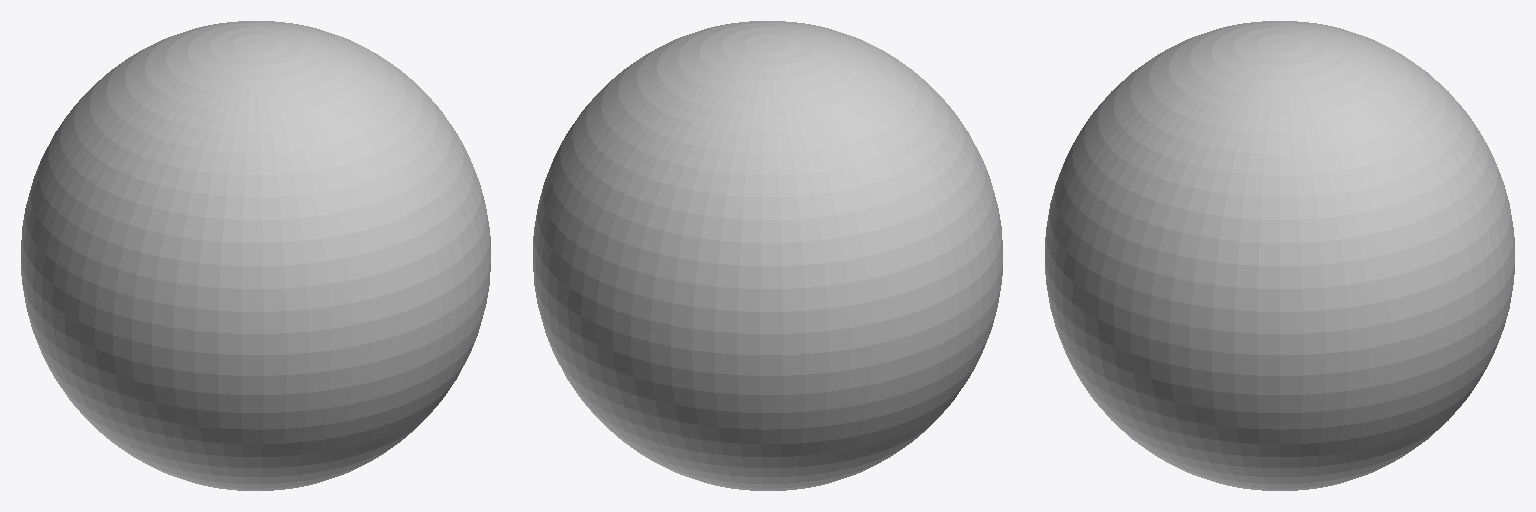
File: Earth.obj
3 renders of one model, left to right at view 1: azimuth 30°, elevation 25°; view 2: azimuth 150°, elevation 25°; view 3: azimuth 270°, elevation 25°, orthographic.
Parts seen in each view (by area): view 1: Sphere; view 2: Sphere; view 3: Sphere.
Part boxes in pixels (left/top/right/bottom): Sphere: left=21, top=21, right=490, bottom=490; Sphere: left=533, top=21, right=1002, bottom=490; Sphere: left=1045, top=21, right=1514, bottom=490.
Bounding box in the file's own units: 2 × 2 × 2.